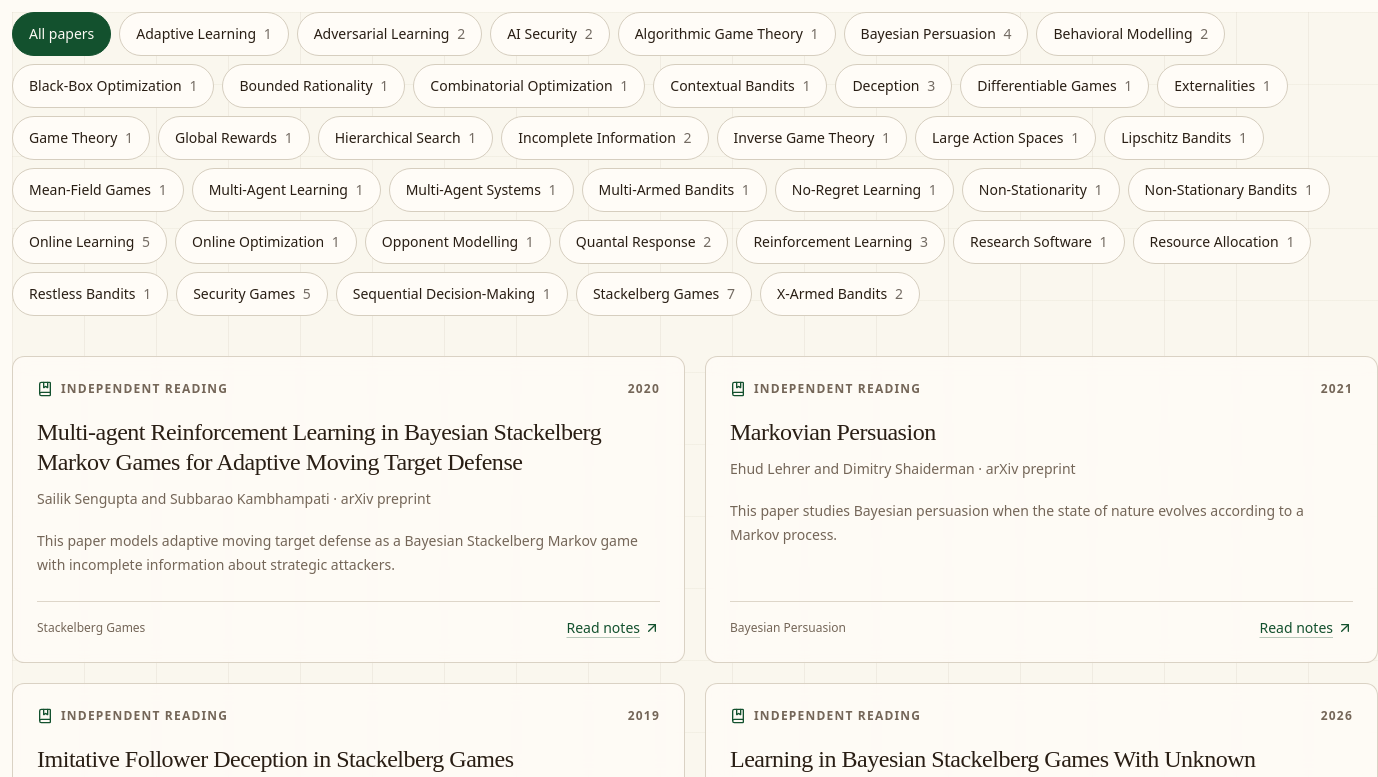
filters papers by topic and can clear the filter
Click the button "Bayesian Persuasion 4".
click(936, 34)  # box [844, 12, 1028, 56]
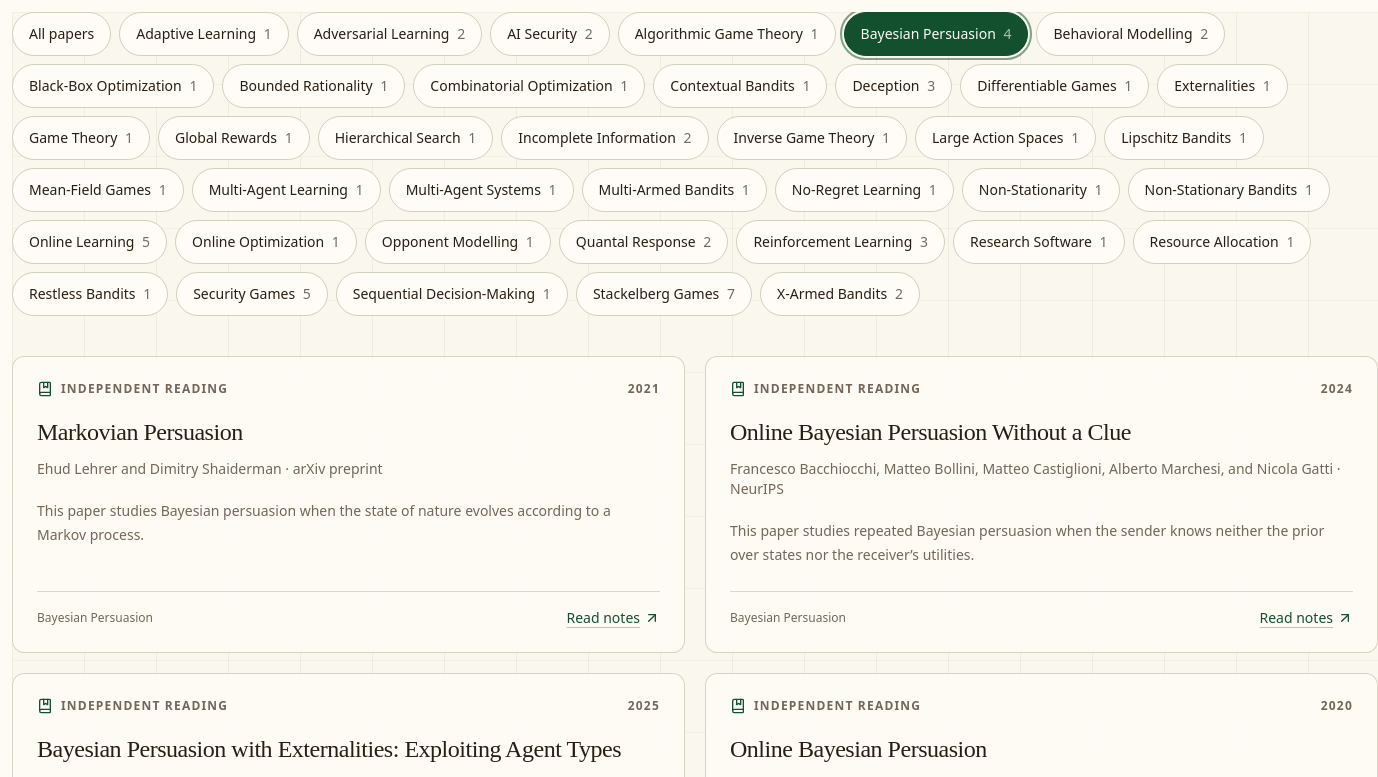
expect the heading "Multi-agent Reinforcement Learning in Bayesian Stackelberg Markov Games for Adaptive Moving Target Defense" is gone: met
Click the button "All papers".
click(62, 34)  # box [12, 12, 111, 56]
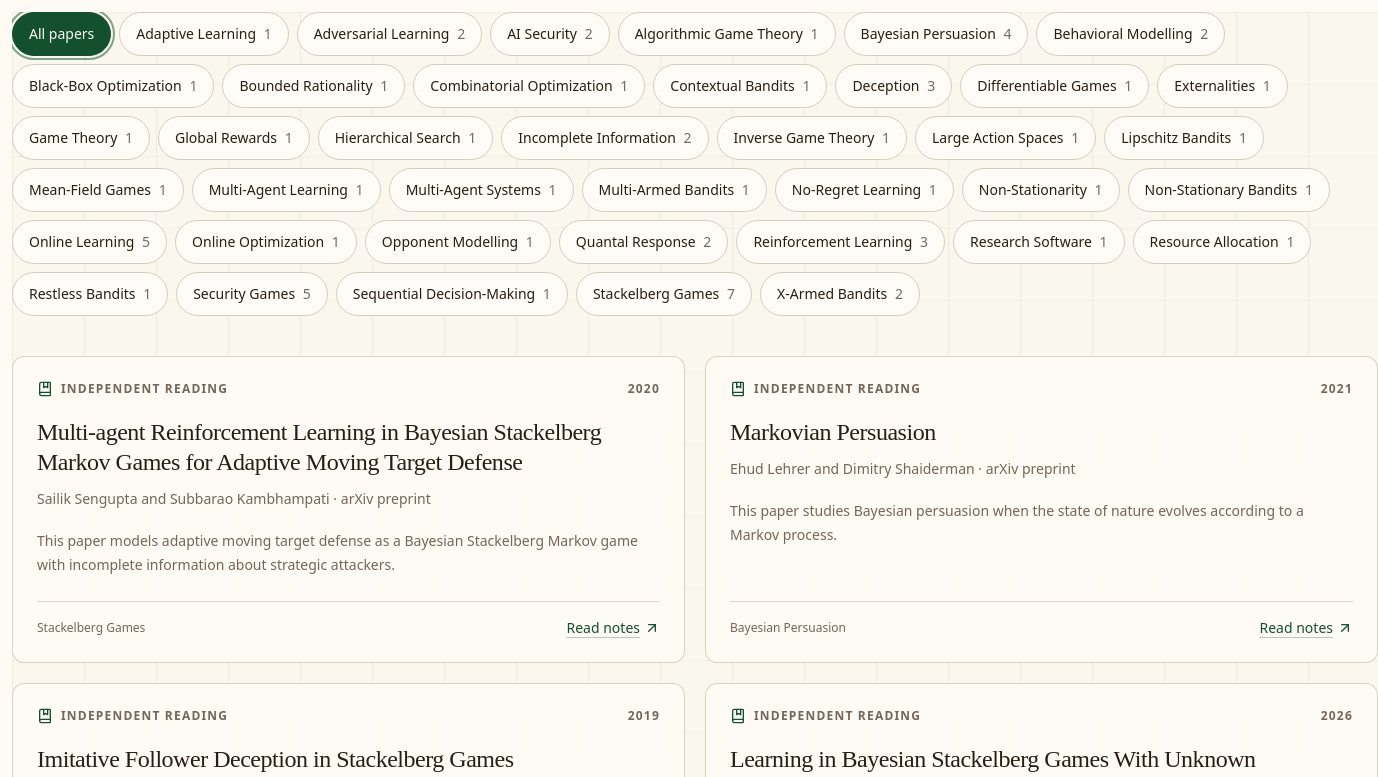
expect the heading "Multi-agent Reinforcement Learning in Bayesian Stackelberg Markov Games for Adaptive Moving Target Defense" is shown: met, box [37, 419, 601, 475]
